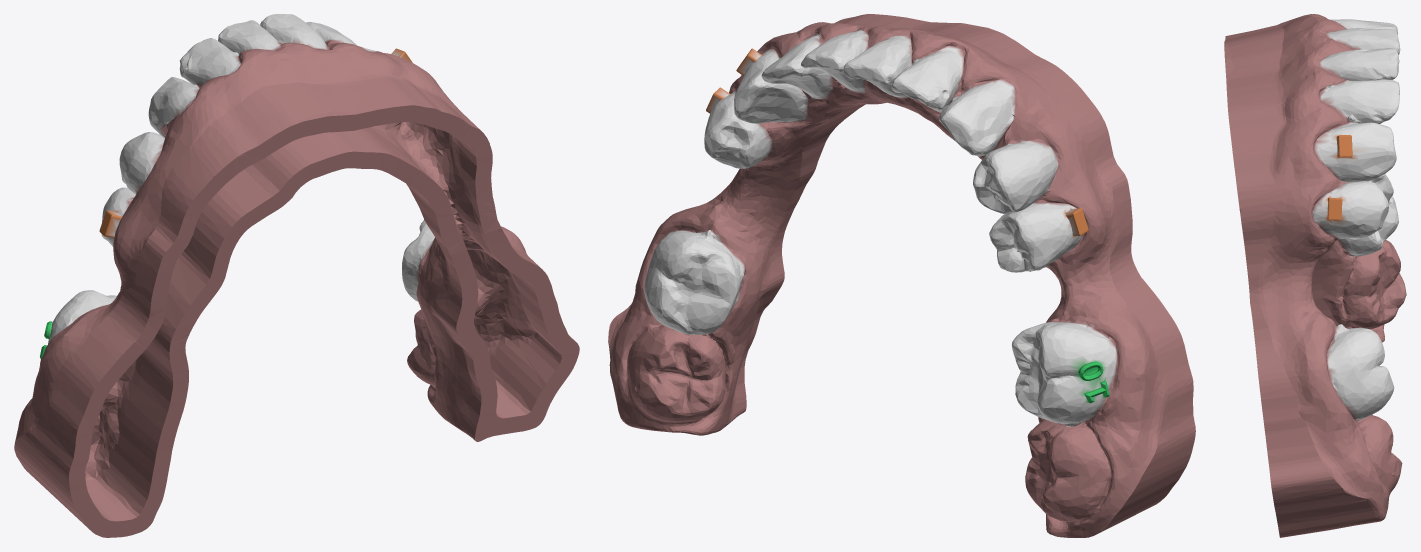
File: lower-model-10.glb
The picture shows the model from 3 angles, left to right: view 1: azimuth 30°, elevation 25°; view 2: azimuth 150°, elevation 25°; view 3: azimuth 270°, elevation 25°; orthographic projection. The views are drawn at different scales.
Visible parts, largest first — view 1: 10 (2); view 2: 10 (2); view 3: 10 (2).
Part boxes in pixels (bbox=[...]): 10 (2): bbox=[14, 14, 579, 537]; 10 (2): bbox=[608, 14, 1195, 537]; 10 (2): bbox=[1224, 14, 1406, 537].
Size of the model in its own units: 64.23 by 50.53 by 20.71.
